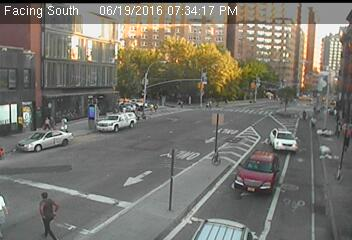neg: (198, 112, 224, 147), (118, 164, 144, 198), (80, 134, 101, 161), (211, 146, 227, 168), (150, 158, 165, 178), (16, 161, 28, 177), (128, 115, 139, 129), (155, 133, 164, 145)
pos: (27, 190, 64, 239), (335, 117, 351, 156), (48, 115, 60, 132), (309, 116, 321, 132), (301, 107, 311, 122)
